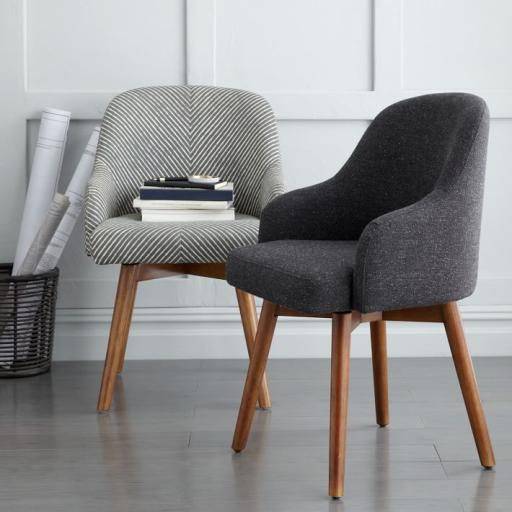chair: (225, 91, 499, 502), (84, 85, 287, 415)
wall: (0, 0, 512, 361)
